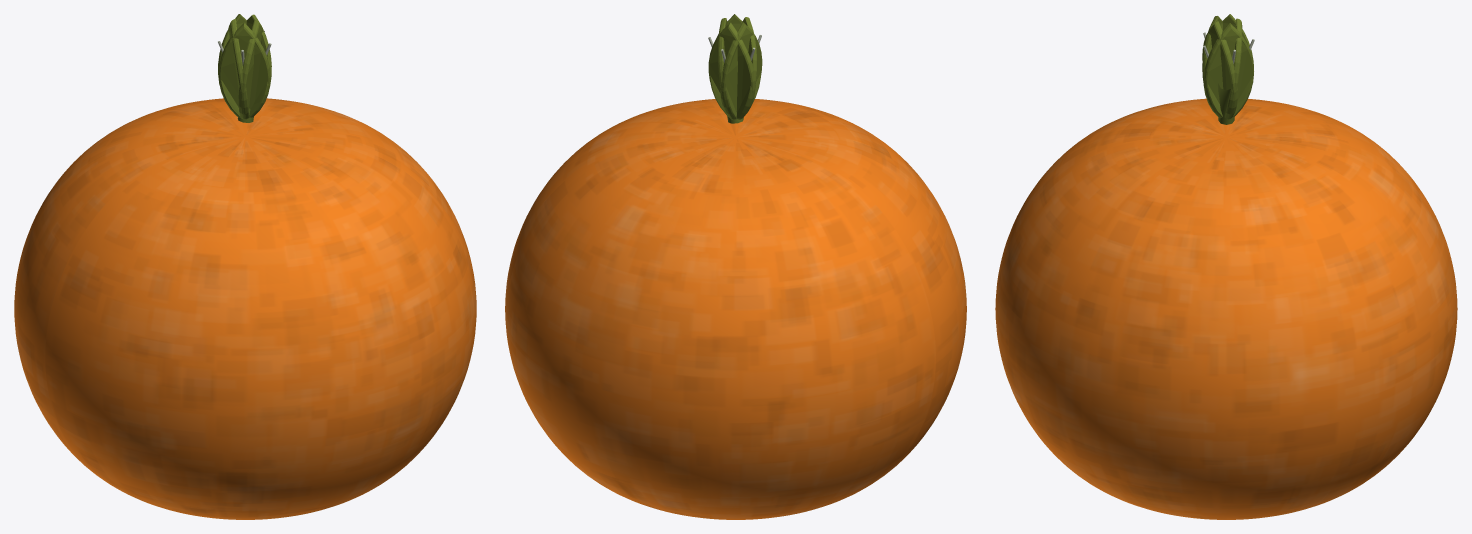
File: persimmon.glb
The picture shows the model from 3 angles, left to right: view 1: azimuth 30°, elevation 25°; view 2: azimuth 150°, elevation 25°; view 3: azimuth 270°, elevation 25°; orthographic projection.
Size of the model in its own units: 0.1539 by 0.1699 by 0.1539.
12 materials, 1 textured.
